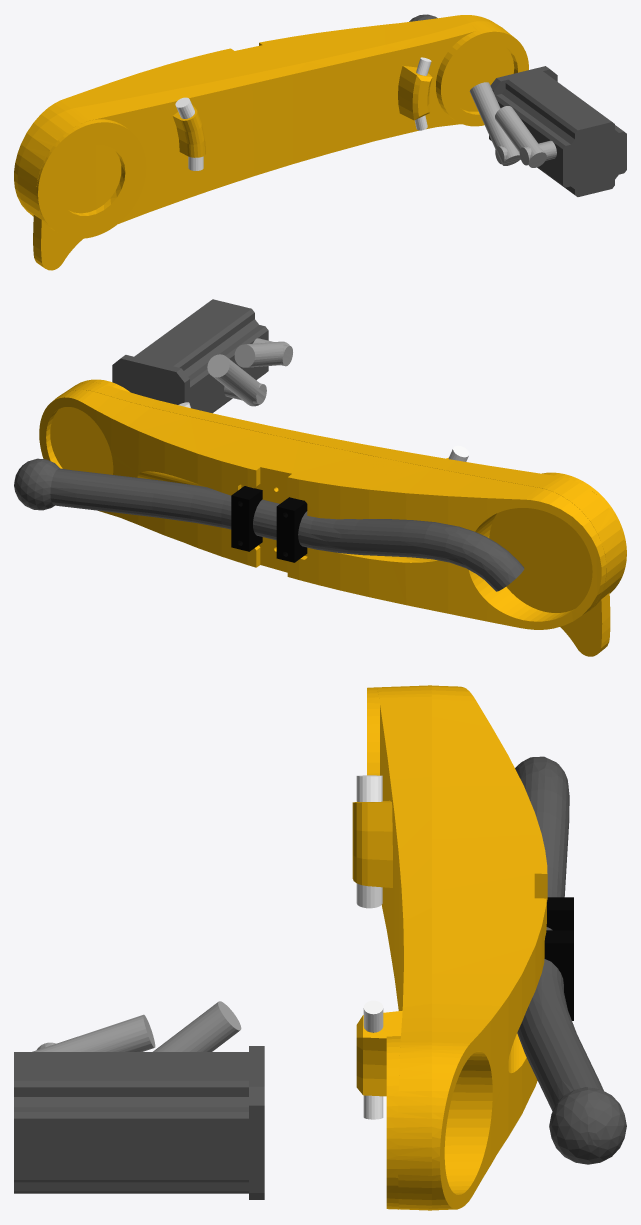
The picture shows the model from 3 angles, top to bottom: view 1: azimuth 30°, elevation 25°; view 2: azimuth 150°, elevation 25°; view 3: azimuth 270°, elevation 25°; orthographic projection. The views are drawn at different scales.
Parts seen in each view (by area): view 1: /node2/Cut013003004002-mesh/0, /node0/Part__Feature006001-mesh/0, /node4/Fusion018-mesh/0, /node1/Cut013003004-mesh/0; view 2: /node2/Cut013003004002-mesh/0, /node3/Fusion020-mesh/0, /node0/Part__Feature006001-mesh/0, /node5/Fusion019-mesh/0, /node4/Fusion018-mesh/0; view 3: /node2/Cut013003004002-mesh/0, /node0/Part__Feature006001-mesh/0, /node3/Fusion020-mesh/0, /node4/Fusion018-mesh/0, /node1/Cut013003004-mesh/0, /node5/Fusion019-mesh/0.
Part boxes in pixels (box(x1,y1,x2,y2)): /node2/Cut013003004002-mesh/0: box(14, 15, 528, 270); /node0/Part__Feature006001-mesh/0: box(489, 66, 626, 196); /node4/Fusion018-mesh/0: box(469, 82, 556, 167); /node1/Cut013003004-mesh/0: box(175, 57, 431, 170); /node2/Cut013003004002-mesh/0: box(39, 379, 626, 656); /node3/Fusion020-mesh/0: box(14, 458, 524, 591); /node0/Part__Feature006001-mesh/0: box(112, 299, 268, 413); /node5/Fusion019-mesh/0: box(231, 486, 307, 562); /node4/Fusion018-mesh/0: box(207, 338, 292, 406); /node2/Cut013003004002-mesh/0: box(352, 685, 547, 1210); /node0/Part__Feature006001-mesh/0: box(14, 1046, 264, 1199); /node3/Fusion020-mesh/0: box(515, 756, 626, 1164); /node4/Fusion018-mesh/0: box(32, 1001, 241, 1051); /node1/Cut013003004-mesh/0: box(356, 775, 383, 1119); /node5/Fusion019-mesh/0: box(544, 897, 573, 1020).
Bounding box in the file's own units: 0.7509 × 0.2075 × 0.4723.
